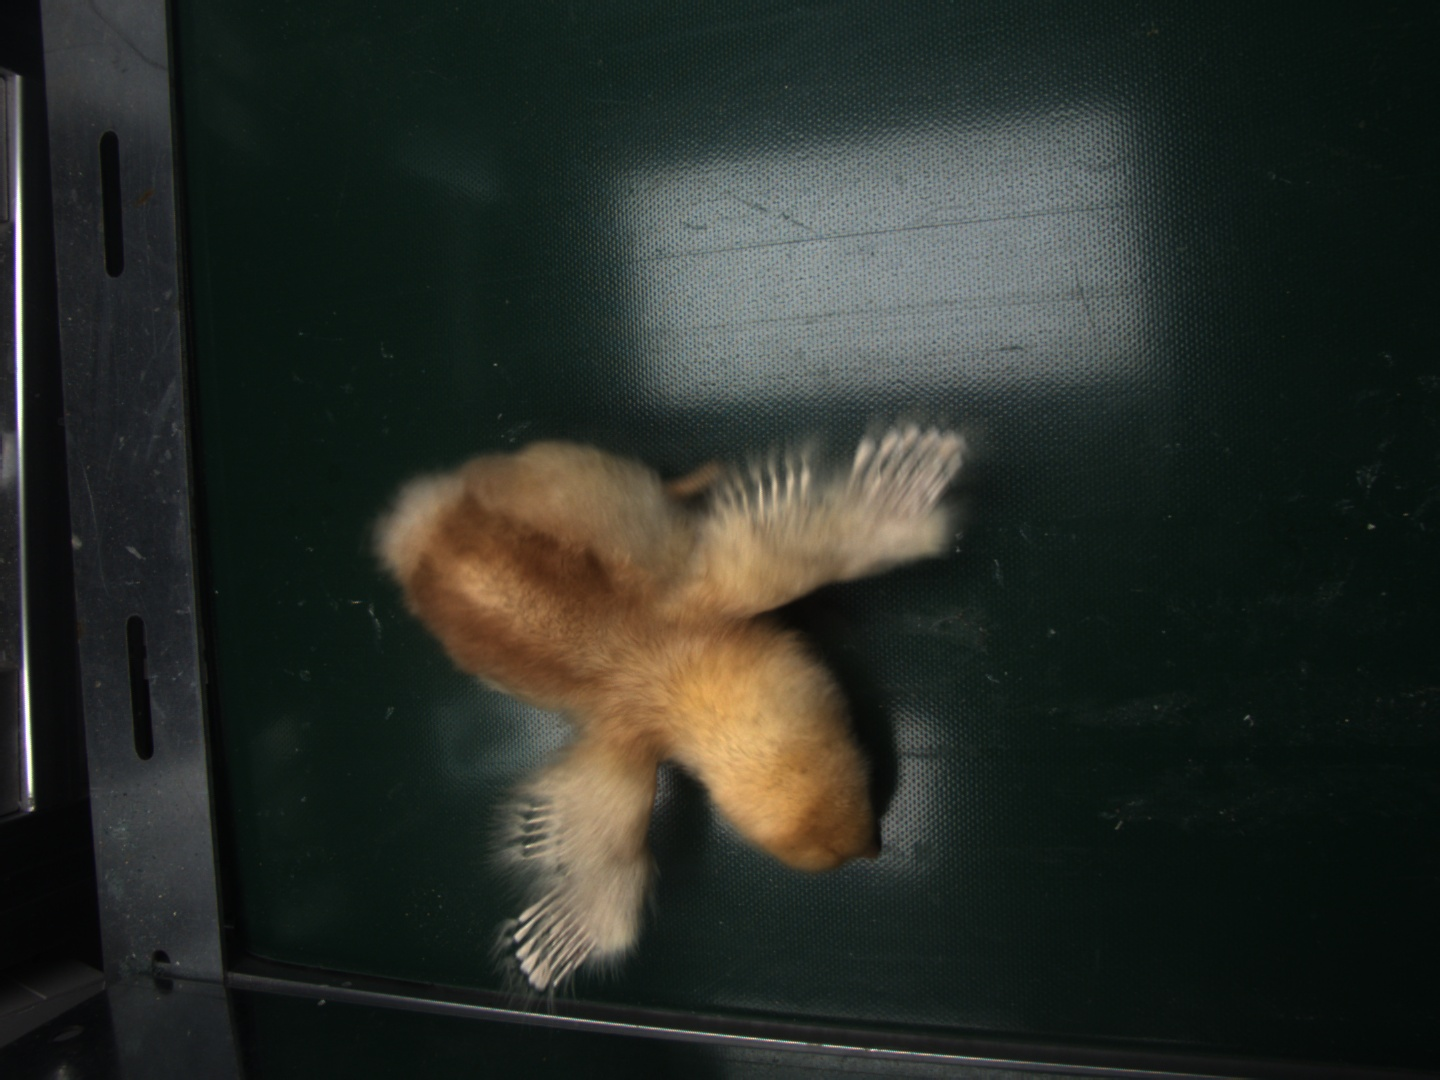female: (513, 887, 598, 986)
